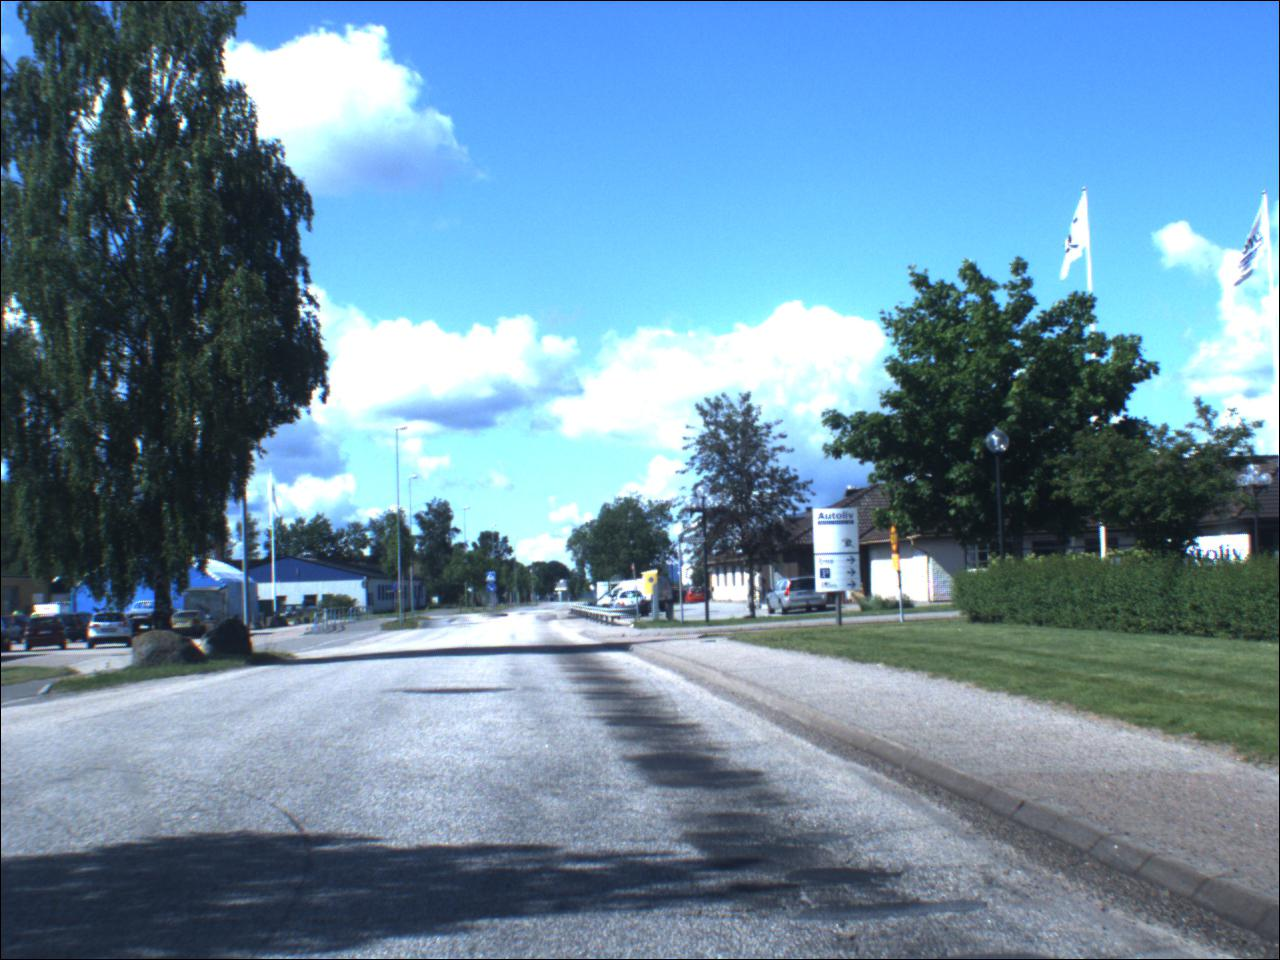30_SIGN: (892, 525, 902, 554)
PASS_RIGHT_SIDE: (488, 585, 500, 594)
PEDESTRIAN_CROSSING: (488, 574, 499, 584)
